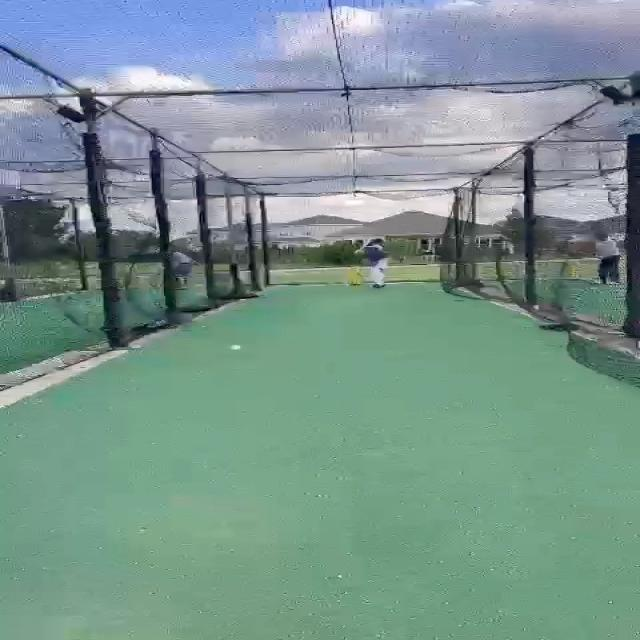batsman: (351, 237, 392, 289)
